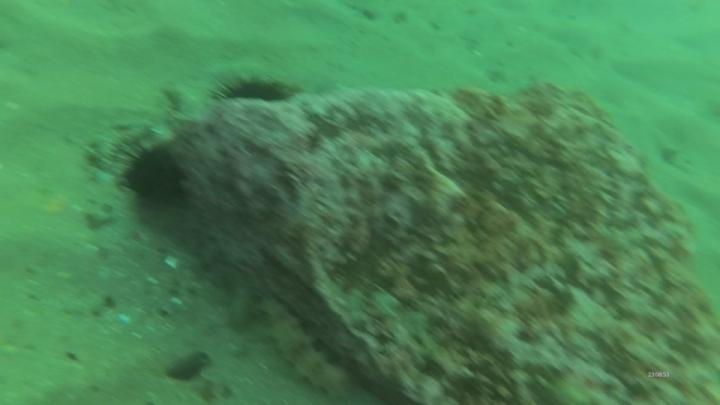echinus: (124, 143, 188, 208)
holothurian: (261, 293, 356, 399)
